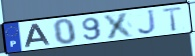0: (50, 18, 79, 46)
9: (80, 16, 103, 42)
A: (23, 22, 53, 48)
J: (137, 8, 158, 36)
T: (162, 5, 184, 33)
X: (102, 11, 137, 40)
